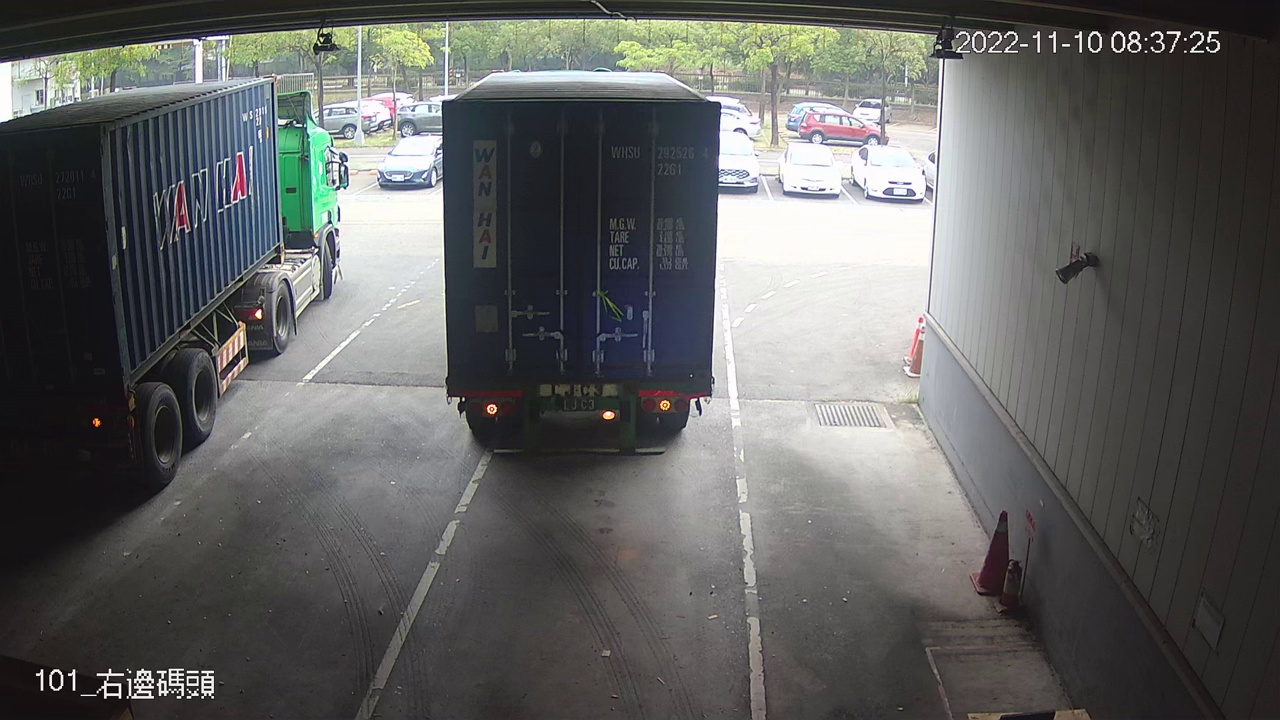container: (608, 139, 714, 180)
